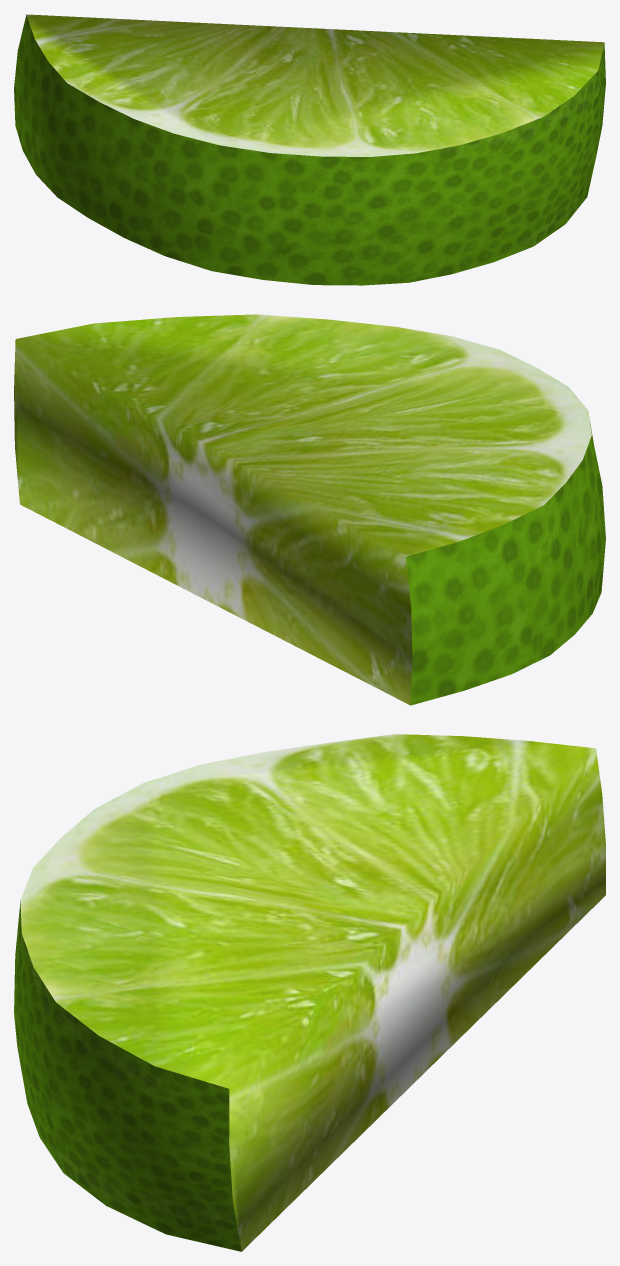
The model's file is LimeSlice.fbx.
3 renders of one model, top to bottom at view 1: azimuth 30°, elevation 25°; view 2: azimuth 150°, elevation 25°; view 3: azimuth 270°, elevation 25°, orthographic. The views are drawn at different scales.
Parts seen in each view (by area): view 1: Lime.004, Lime.005; view 2: Lime.005, Lime.004; view 3: Lime.005, Lime.004.
Part boxes in pixels (bbox=[...]): Lime.004: bbox=[14, 15, 605, 285]; Lime.005: bbox=[26, 14, 604, 156]; Lime.005: bbox=[14, 314, 591, 705]; Lime.004: bbox=[406, 416, 605, 705]; Lime.005: bbox=[20, 734, 605, 1251]; Lime.004: bbox=[14, 900, 241, 1251].
Size of the model in its own units: 5.58 by 1.8 by 4.36.
Materials: 2 (2 with a texture image).
